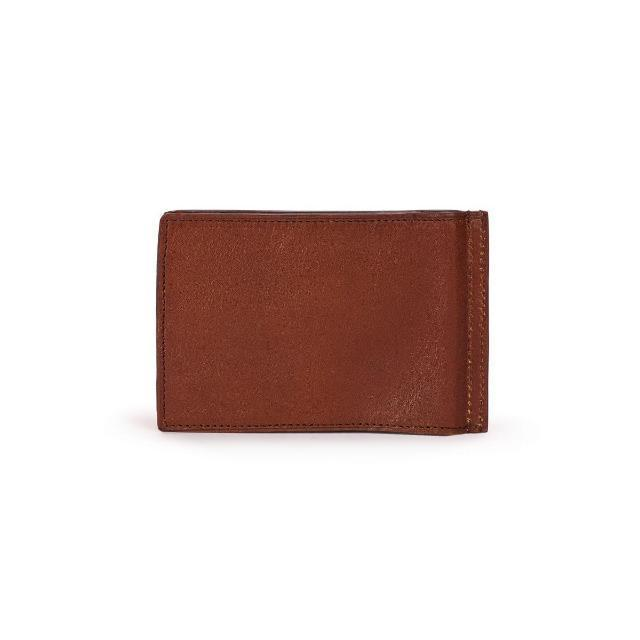wallet: (152, 204, 492, 438)
